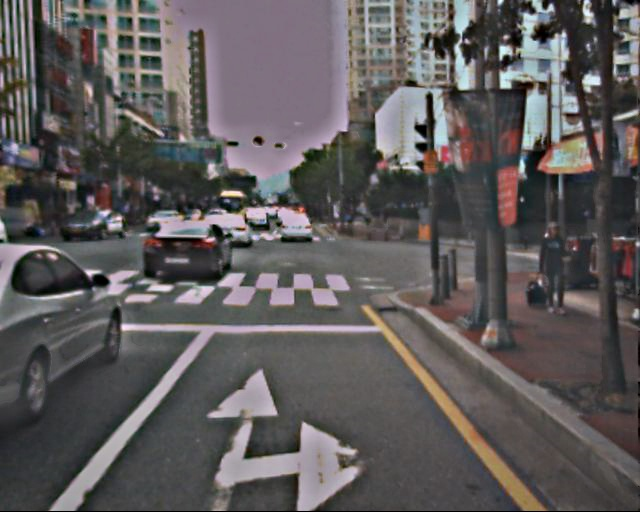person: (534, 222, 573, 317)
